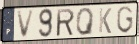9: (37, 7, 54, 39)
G: (116, 5, 134, 35)
K: (98, 7, 113, 35)
Q: (75, 6, 96, 37)
R: (56, 7, 76, 38)
V: (16, 9, 36, 40)
